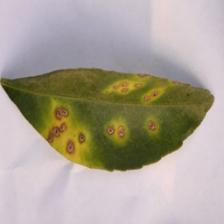canker: (31, 76, 155, 161)
